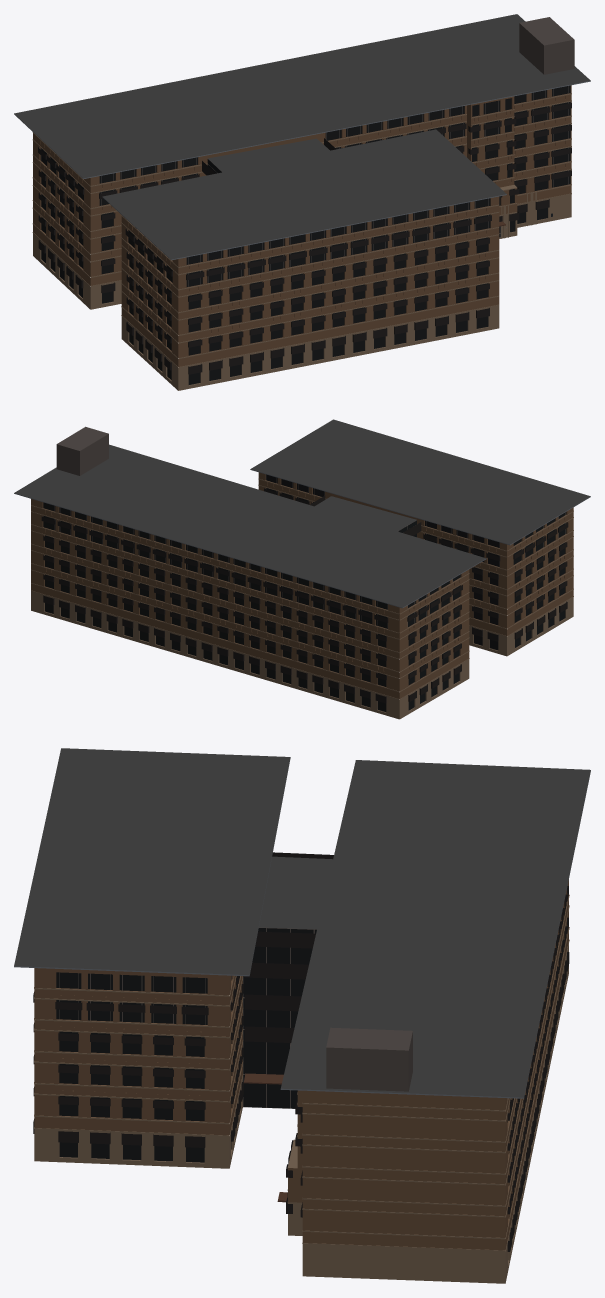
Rendered from gates-dell-complex-look.glb.
3 views of the same model, one above another, from view 1: azimuth 30°, elevation 25°; view 2: azimuth 150°, elevation 25°; view 3: azimuth 270°, elevation 25° (orthographic). The views are drawn at different scales.
Parts seen in each view (by area): view 1: n_roof, n_wall_brick, n_glass_window, n_wall_stone_cast, n_screen_rust_grating, n_wall_penthouse, n_metal_fascia, n_metal_door_frame; view 2: n_roof, n_wall_brick, n_glass_window, n_wall_stone_cast, n_screen_rust_grating, n_wall_penthouse, n_metal_fascia, n_metal_door_frame; view 3: n_roof, n_wall_brick, n_wall_stone_cast, n_screen_rust_grating, n_glass_window, n_glass_atrium, n_wall_penthouse, n_metal_fascia, n_metal_door_frame.
Part boxes in pixels (left/top/right/bottom): n_roof: left=14, top=14, right=590, bottom=259; n_wall_brick: left=33, top=85, right=571, bottom=366; n_glass_window: left=40, top=85, right=570, bottom=384; n_wall_stone_cast: left=32, top=93, right=571, bottom=390; n_screen_rust_grating: left=38, top=102, right=571, bottom=374; n_wall_penthouse: left=519, top=17, right=574, bottom=74; n_metal_fascia: left=14, top=81, right=590, bottom=260; n_metal_door_frame: left=41, top=86, right=568, bottom=286; n_roof: left=14, top=419, right=590, bottom=607; n_wall_brick: left=31, top=472, right=573, bottom=698; n_glass_window: left=43, top=474, right=566, bottom=711; n_wall_stone_cast: left=31, top=478, right=573, bottom=719; n_screen_rust_grating: left=41, top=488, right=568, bottom=703; n_wall_penthouse: left=56, top=426, right=108, bottom=475; n_metal_fascia: left=14, top=469, right=590, bottom=608; n_metal_door_frame: left=54, top=475, right=565, bottom=628; n_roof: left=14, top=748, right=590, bottom=1097; n_wall_brick: left=34, top=879, right=568, bottom=1250; n_wall_stone_cast: left=34, top=894, right=569, bottom=1283; n_screen_rust_grating: left=33, top=852, right=569, bottom=1251; n_glass_window: left=56, top=972, right=510, bottom=1162; n_glass_atrium: left=243, top=928, right=316, bottom=1108; n_wall_penthouse: left=326, top=1027, right=412, bottom=1091; n_metal_fascia: left=14, top=757, right=590, bottom=1098; n_metal_door_frame: left=59, top=927, right=316, bottom=1108.
Size of the model in its own units: 99.73 by 31.46 by 69.58.
